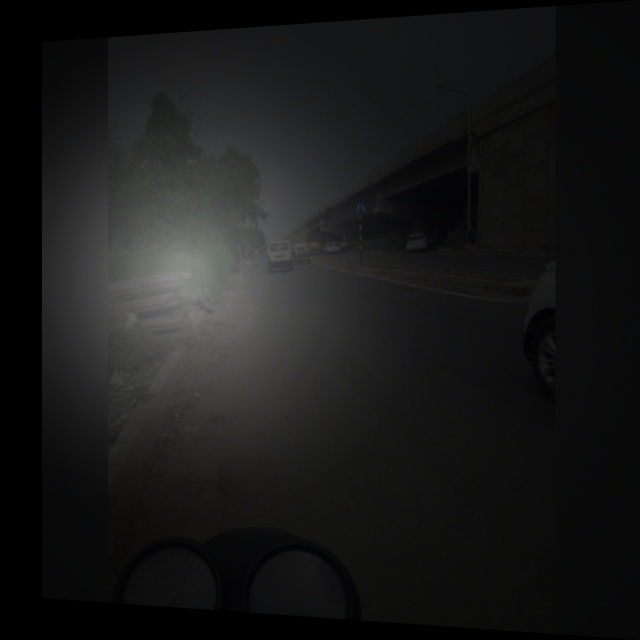Pass_Either_Side: (351, 201, 368, 218)
